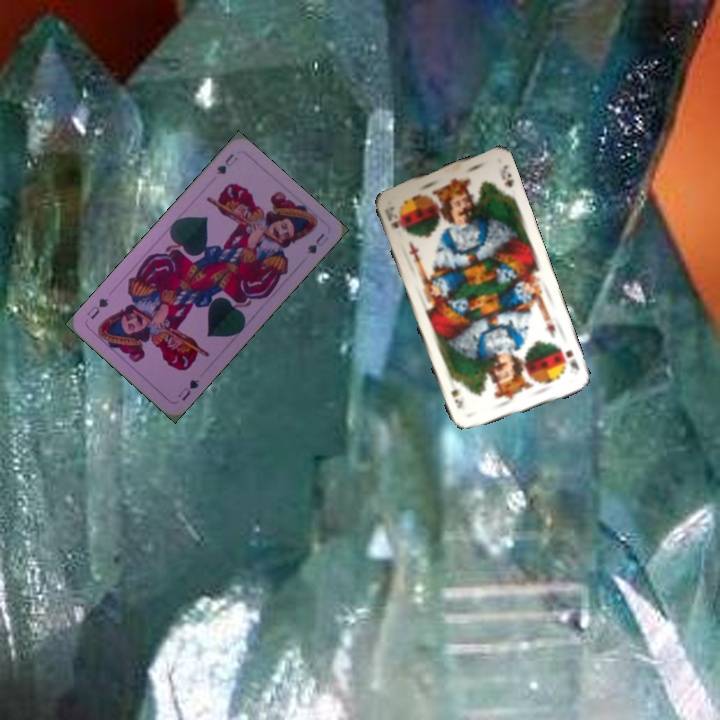GU: (174, 375, 202, 404), (212, 149, 241, 177)
SK: (555, 342, 582, 373), (385, 202, 406, 234)
